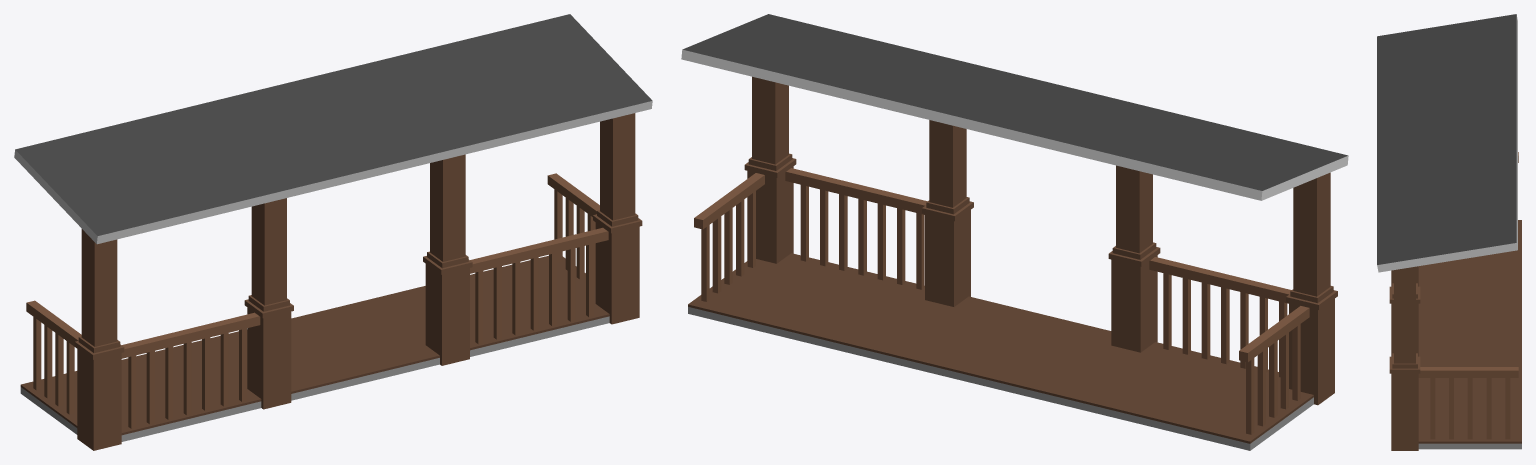
The model's file is Terrace4_C3.fbx.
The picture shows the model from 3 angles, left to right: view 1: azimuth 30°, elevation 25°; view 2: azimuth 150°, elevation 25°; view 3: azimuth 270°, elevation 25°; orthographic projection. The views are drawn at different scales.
Visible parts, largest first — view 1: Terrace4_C3; view 2: Terrace4_C3; view 3: Terrace4_C3.
Part boxes in pixels (<box>): Terrace4_C3: <box>14,14,652,450</box>; Terrace4_C3: <box>681,14,1348,450</box>; Terrace4_C3: <box>1377,14,1521,450</box>.
Size of the model in its own units: 6.5 by 2.78 by 1.74.
